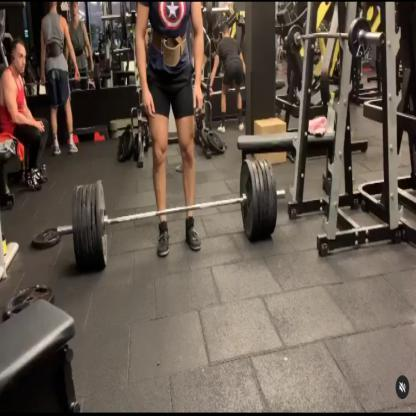barbell: (73, 181, 110, 271), (240, 159, 279, 241)
